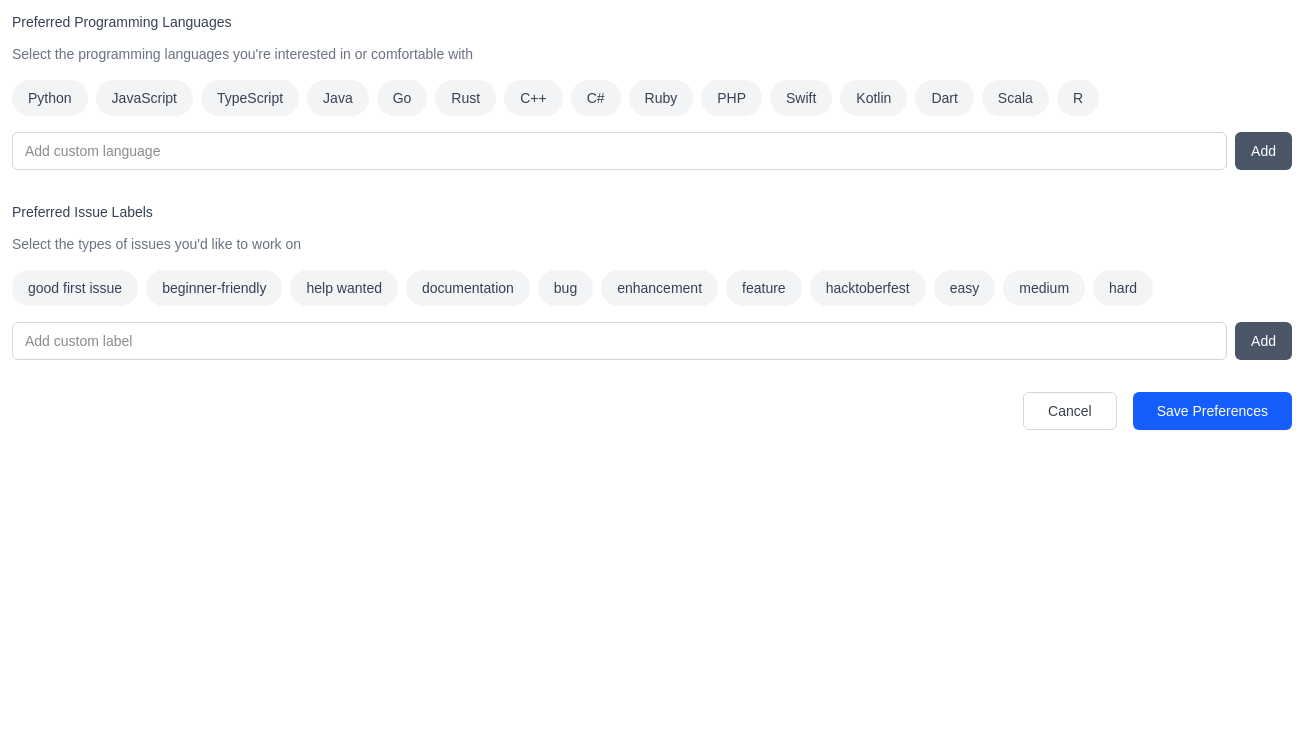
Test: PreferencesForm › adds custom language
This screenshot has width=1304, height=732.
Type "Elixir" into the field with placeholder "Add custom language" at (620, 151), box x1=12 y1=132 x2=1227 y2=170
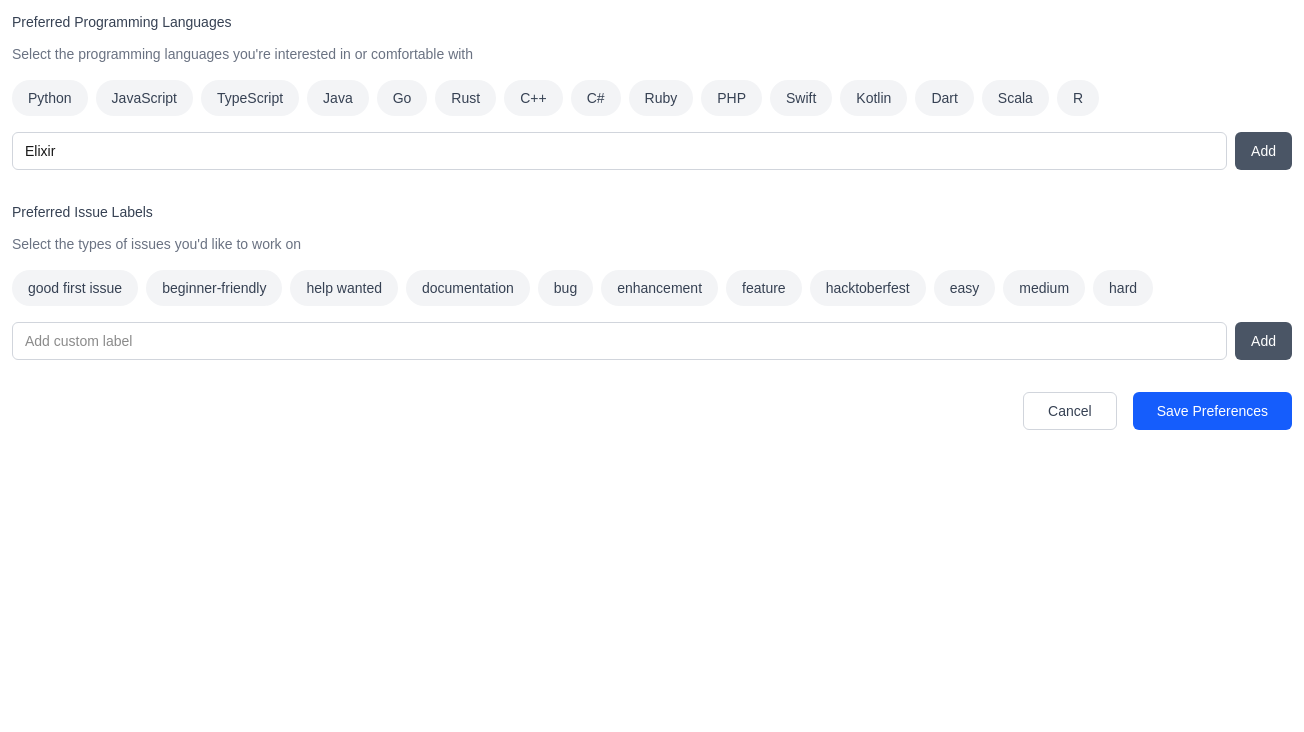
Click the 1st button "Add" at (1264, 151), box x1=1235 y1=132 x2=1292 y2=170
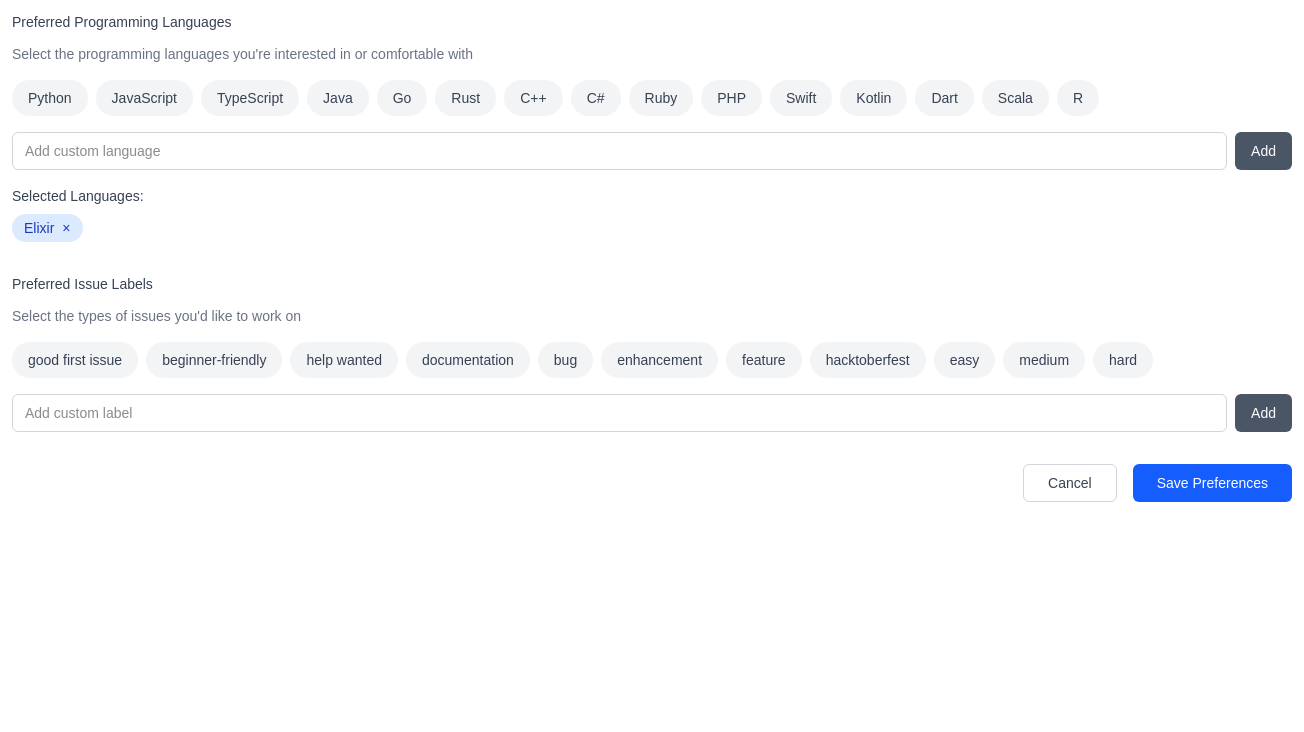
Check: the text "Selected Languages:" is shown, box x1=12 y1=188 x2=144 y2=204
